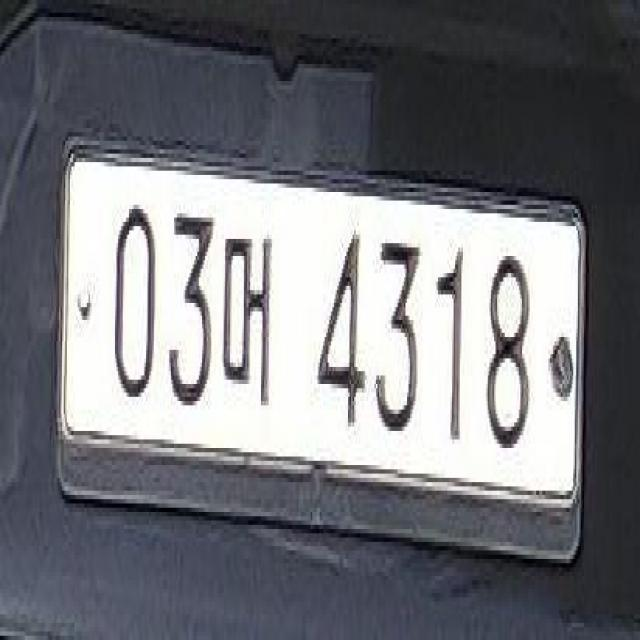illegal_plate: (66, 147, 594, 568)
